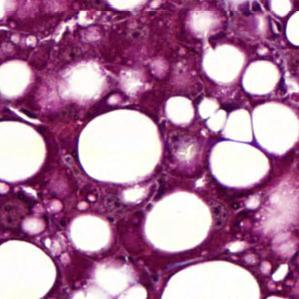steatosis: (160, 260, 262, 299), (1, 238, 59, 299), (284, 9, 299, 50)
